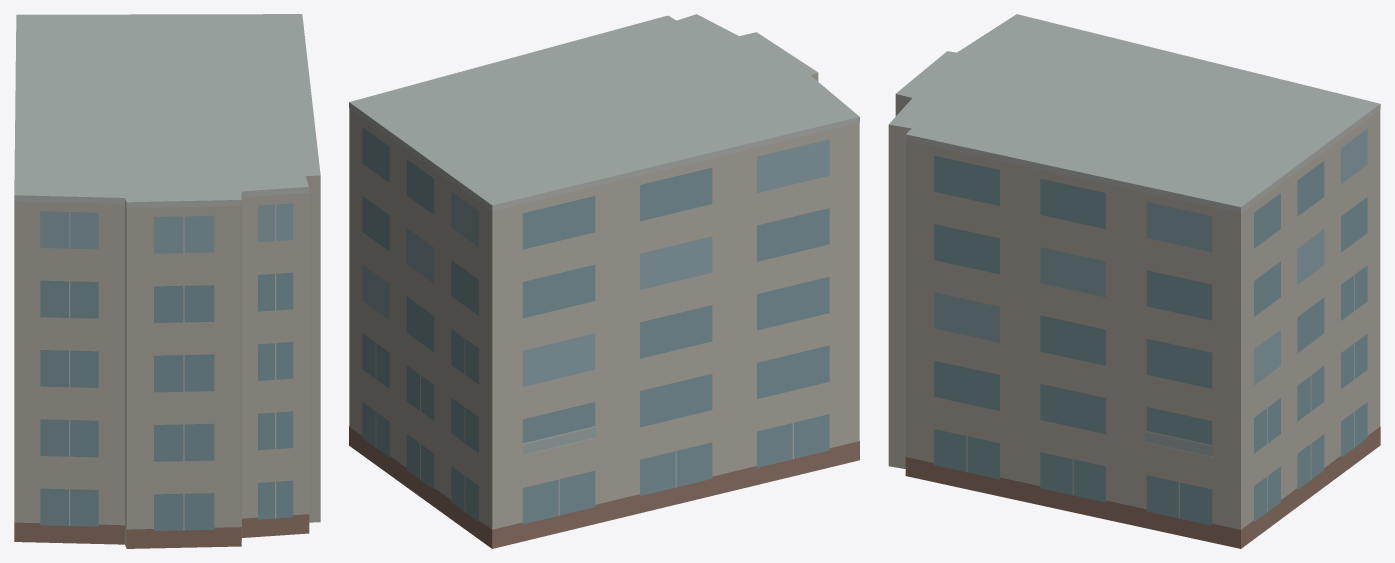
The model's file is survey-upis-32938601.glb.
The picture shows the model from 3 angles, left to right: view 1: azimuth 30°, elevation 25°; view 2: azimuth 150°, elevation 25°; view 3: azimuth 270°, elevation 25°; orthographic projection.
Visible parts, largest first — view 1: survey-upis-32938601.tmp; view 2: survey-upis-32938601.tmp; view 3: survey-upis-32938601.tmp.
Part boxes in pixels (box(x1,y1,x2,y2)): survey-upis-32938601.tmp: box(14, 14, 320, 548); survey-upis-32938601.tmp: box(349, 14, 859, 548); survey-upis-32938601.tmp: box(888, 14, 1380, 548).
Bounding box in the file's own units: 17.11 × 14.1 × 18.41.
